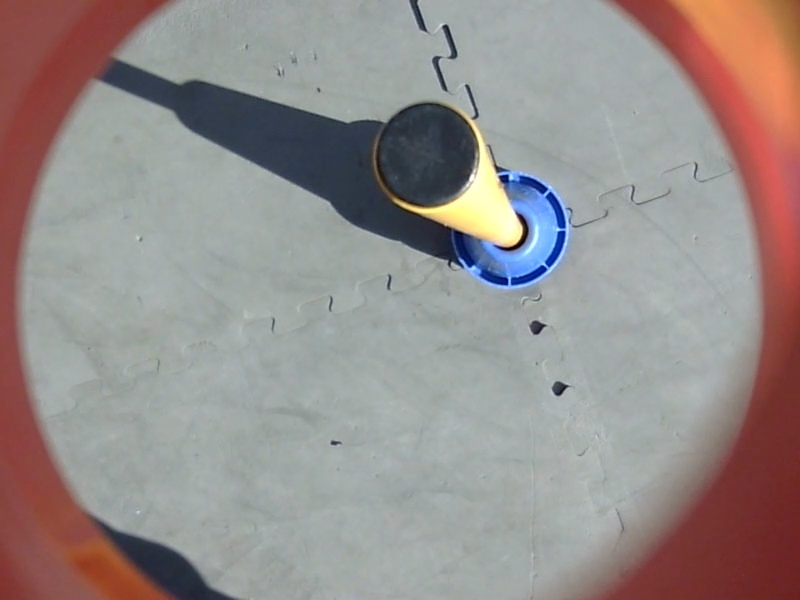tip: (368, 96, 487, 216)
